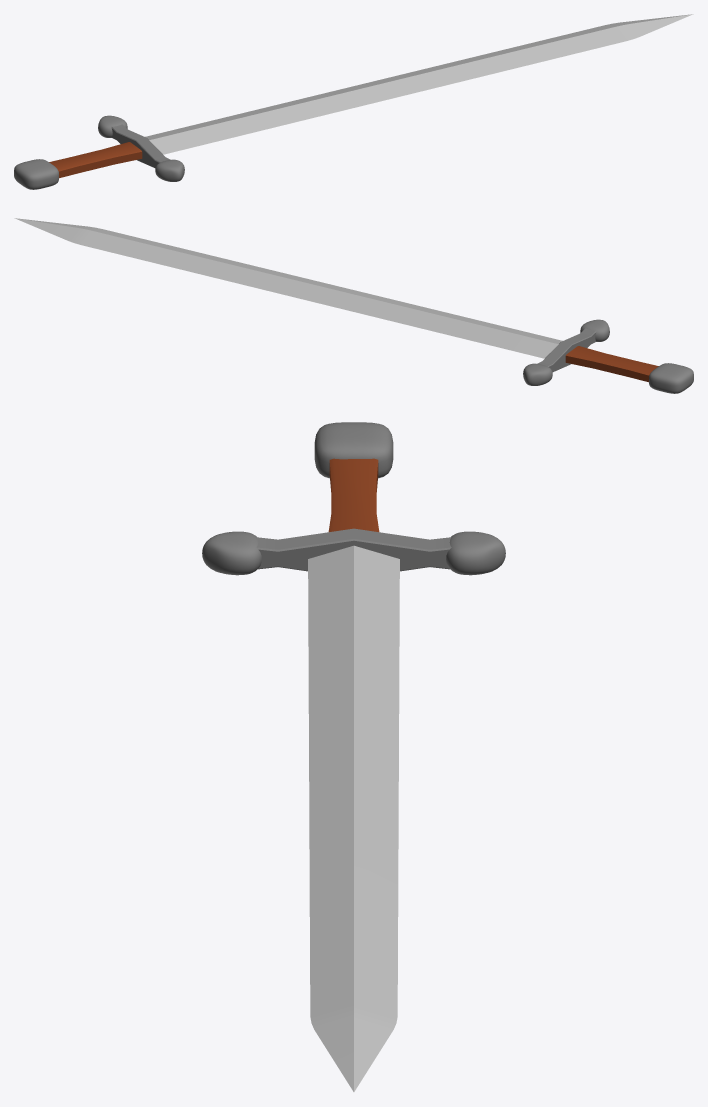
Rendered from sword1.fbx.
The picture shows the model from 3 angles, top to bottom: view 1: azimuth 30°, elevation 25°; view 2: azimuth 150°, elevation 25°; view 3: azimuth 270°, elevation 25°; orthographic projection. The views are drawn at different scales.
Visible parts, largest first — view 1: Cube; view 2: Cube; view 3: Cube.
Part boxes in pixels (x1,y1,x2,y2): Cube: (14,14,693,189); Cube: (14,218,693,393); Cube: (202,422,505,1091).
Size of the model in its own units: 4.54 by 0.1268 by 0.8864.
